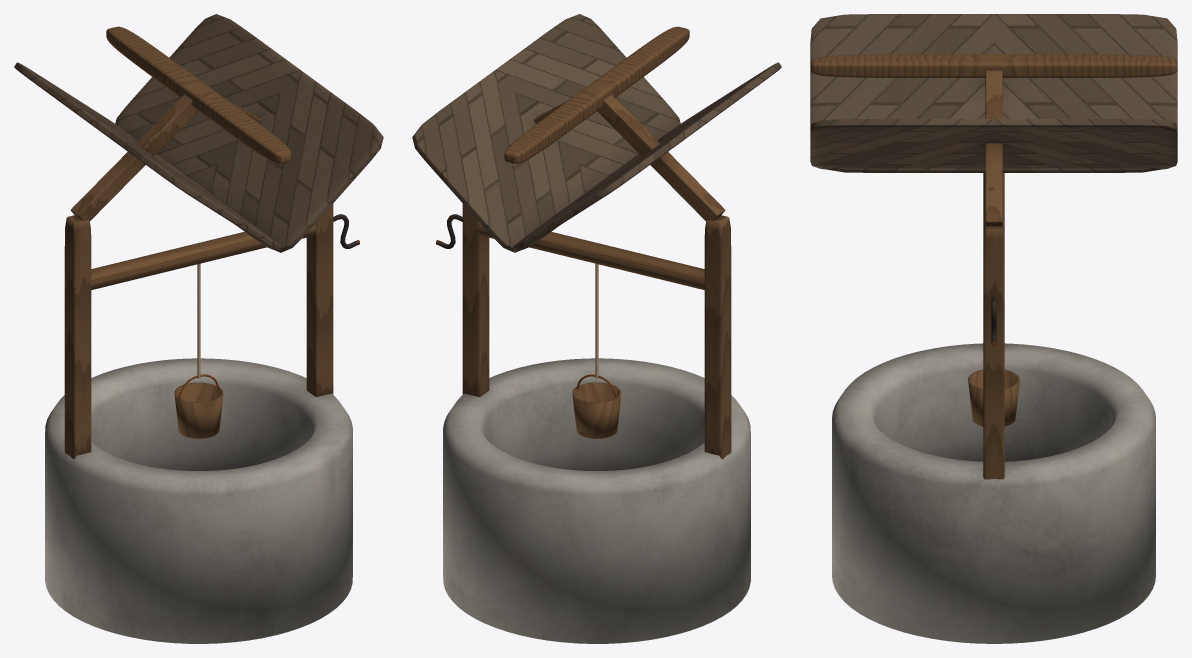
The model's file is stone.glb.
The picture shows the model from 3 angles, left to right: view 1: azimuth 30°, elevation 25°; view 2: azimuth 150°, elevation 25°; view 3: azimuth 270°, elevation 25°; orthographic projection. The views are drawn at different scales.
Parts seen in each view (by area): view 1: well_stone, roof_shingle, wood_z, wood_x; view 2: well_stone, roof_shingle, wood_z, wood_x; view 3: well_stone, roof_shingle, wood_z.
Boxes of the visible parts, bbox=[...] form: well_stone: bbox=[45, 358, 352, 643]; roof_shingle: bbox=[14, 14, 383, 252]; wood_z: bbox=[64, 26, 333, 458]; wood_x: bbox=[75, 223, 332, 290]; well_stone: bbox=[443, 358, 750, 643]; roof_shingle: bbox=[412, 14, 781, 252]; wood_z: bbox=[462, 26, 731, 458]; wood_x: bbox=[463, 223, 720, 290]; well_stone: bbox=[832, 343, 1155, 643]; roof_shingle: bbox=[810, 14, 1177, 172]; wood_z: bbox=[810, 54, 1177, 479].
Size of the model in its own units: 1.65 by 2.64 by 1.7.
Materials: 7 (6 with a texture image).
